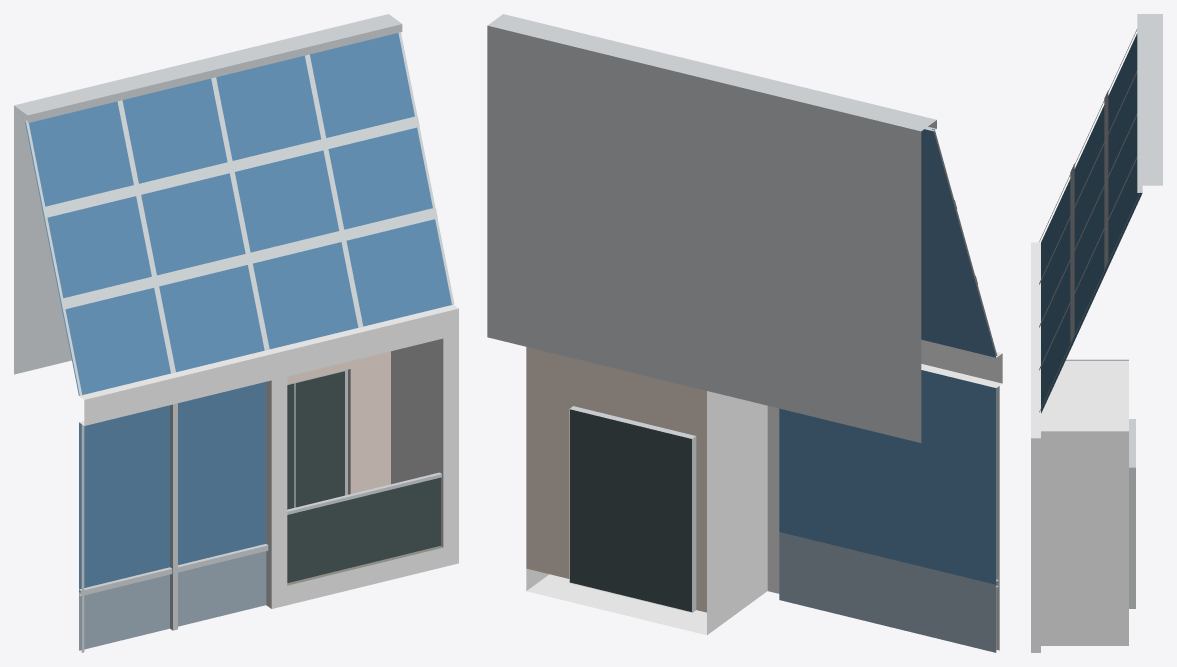
The model's file is top-w1.fbx.
The picture shows the model from 3 angles, left to right: view 1: azimuth 30°, elevation 25°; view 2: azimuth 150°, elevation 25°; view 3: azimuth 270°, elevation 25°; orthographic projection. The views are drawn at different scales.
Parts seen in each view (by area): view 1: a2011/0/top-w1; view 2: a2011/0/top-w1; view 3: a2011/0/top-w1.
Part boxes in pixels (x1,y1,x2,y2): a2011/0/top-w1: (14,14,458,652); a2011/0/top-w1: (487,14,1002,652); a2011/0/top-w1: (1031,14,1162,652).
Size of the model in its own units: 6 by 7.62 by 1.95.
